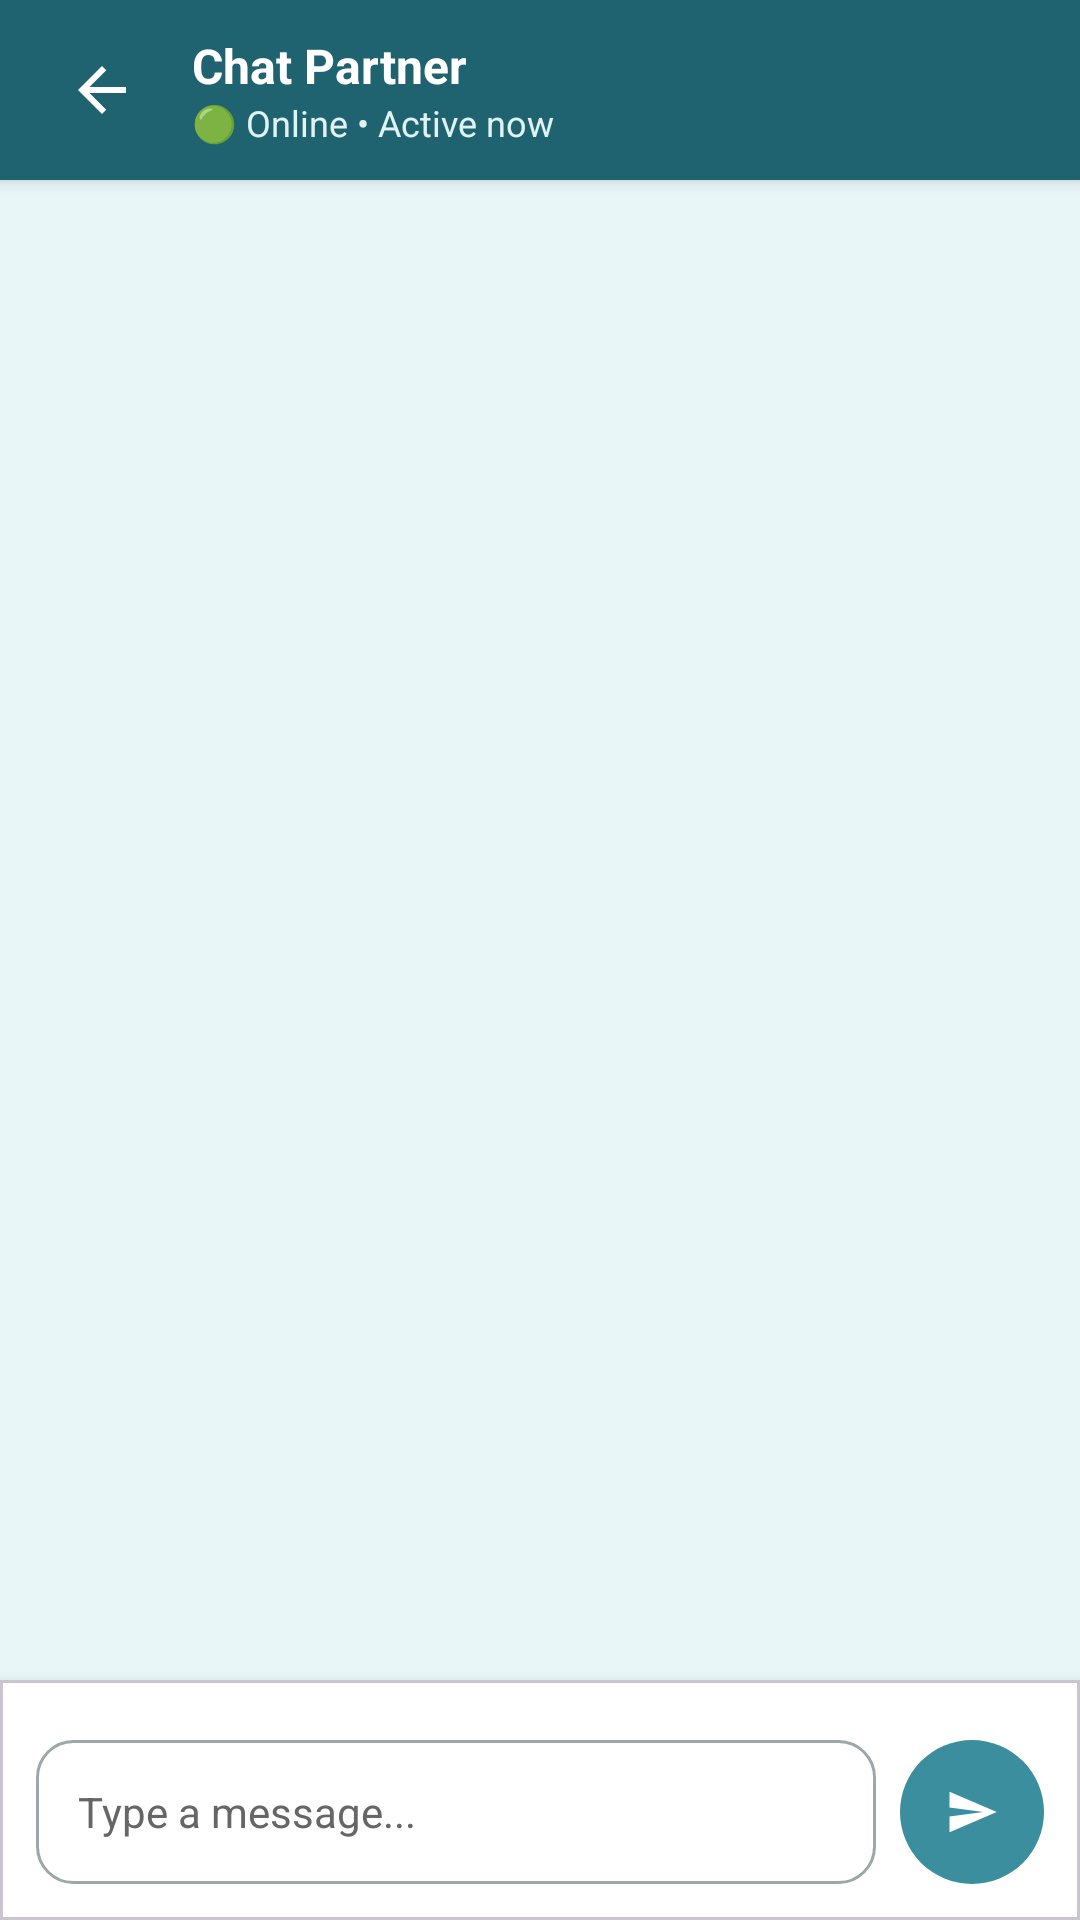

Screen size 1080x1920. Icon name, then its box in pixels as (x1, y1, x2, y2):
Back: (78, 66, 126, 114)
send: (900, 1740, 1044, 1884)
